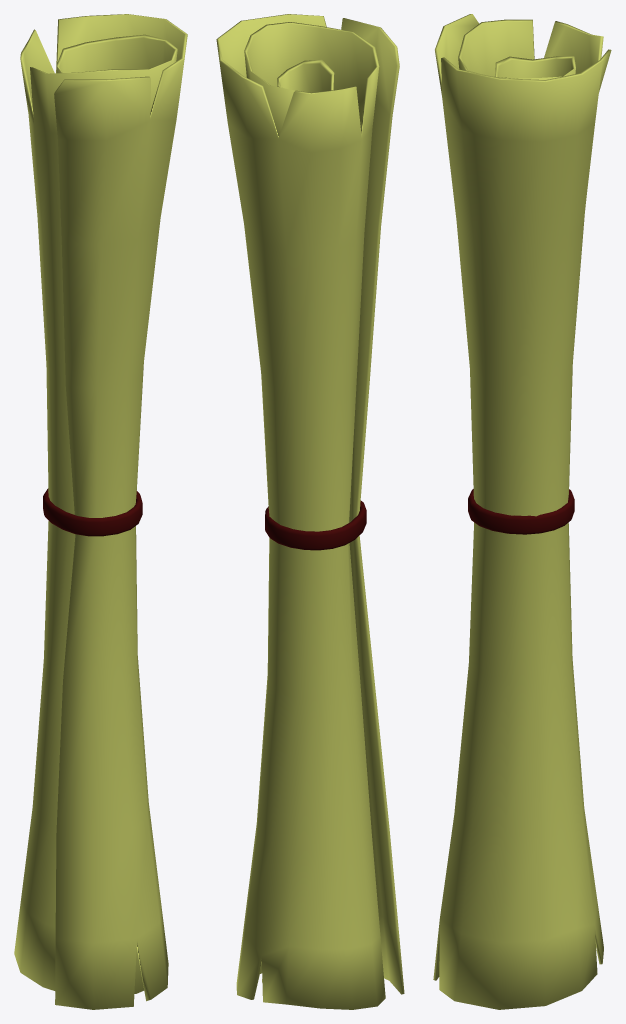
The model's file is parchemin.obj.
The picture shows the model from 3 angles, left to right: view 1: azimuth 30°, elevation 25°; view 2: azimuth 150°, elevation 25°; view 3: azimuth 270°, elevation 25°; orthographic projection. The views are drawn at different scales.
Visible parts, largest first — view 1: Parchemin; view 2: Parchemin; view 3: Parchemin.
Boxes of the visible parts, x1,y1,x2,y2 form: Parchemin: (14,14,187,1009); Parchemin: (216,14,404,1009); Parchemin: (433,14,611,1009).
Size of the model in its own units: 0.1321 by 0.7732 by 0.1323.
